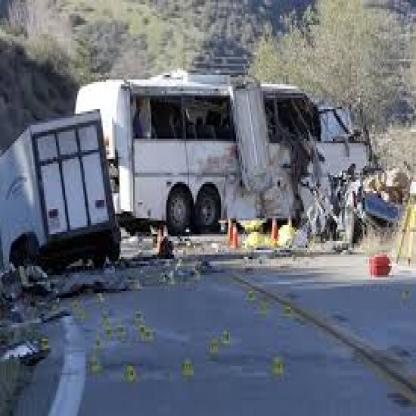accident: (12, 65, 414, 299)
